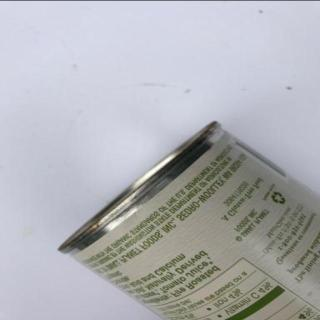Anorganik: (55, 118, 318, 320)
